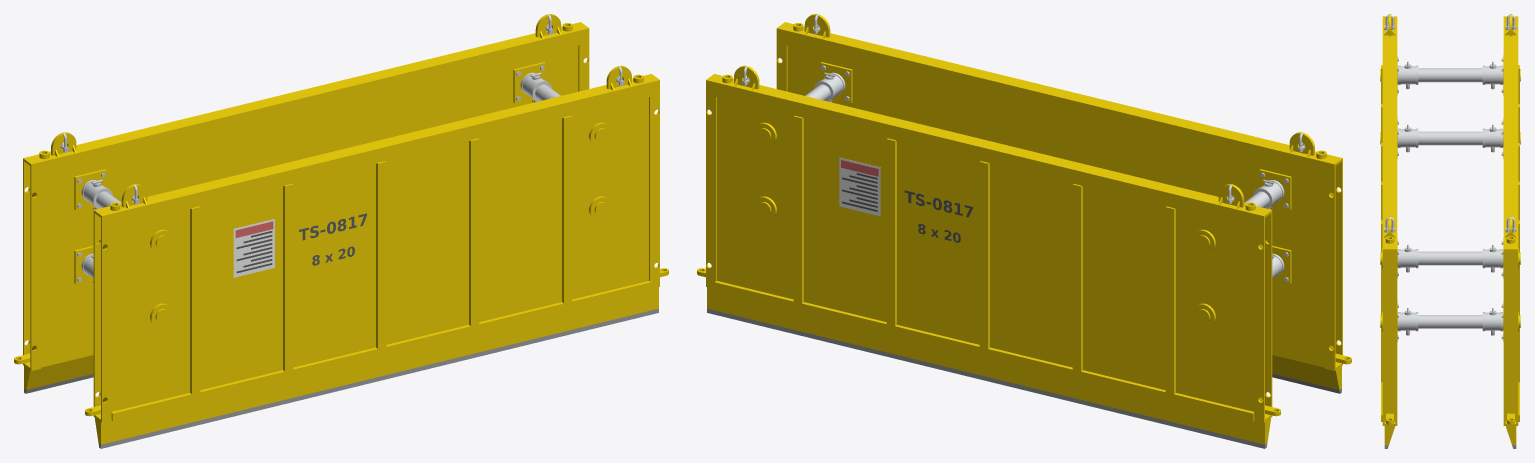
File: trench-shield-8x20-cad.glb
3 views of the same model, side by side, from view 1: azimuth 30°, elevation 25°; view 2: azimuth 150°, elevation 25°; view 3: azimuth 270°, elevation 25° (orthographic). The views are drawn at different scales.
Visible parts, largest first — view 1: knife_edge_L, cutting_edge_L, spreader_pipes, data_decal_L, stencil_L; view 2: knife_edge_L, cutting_edge_L, spreader_pipes, data_decal_L, stencil_L; view 3: knife_edge_L, spreader_pipes, socket_bolts_L, shackles_L.
Boxes of the visible parts, x1,y1,x2,y2 form: knife_edge_L: [14, 14, 668, 444]; cutting_edge_L: [24, 308, 658, 448]; spreader_pipes: [81, 72, 560, 278]; data_decal_L: [233, 219, 274, 277]; stencil_L: [236, 213, 366, 273]; knife_edge_L: [697, 14, 1351, 444]; cutting_edge_L: [707, 308, 1341, 448]; spreader_pipes: [805, 72, 1284, 278]; data_decal_L: [839, 157, 880, 216]; stencil_L: [842, 173, 972, 242]; knife_edge_L: [1380, 14, 1520, 445]; spreader_pipes: [1397, 65, 1503, 331]; socket_bolts_L: [1384, 25, 1516, 339]; shackles_L: [1385, 14, 1515, 232].
Bounding box in the file's own units: 6.37 × 2.64 × 1.55.
